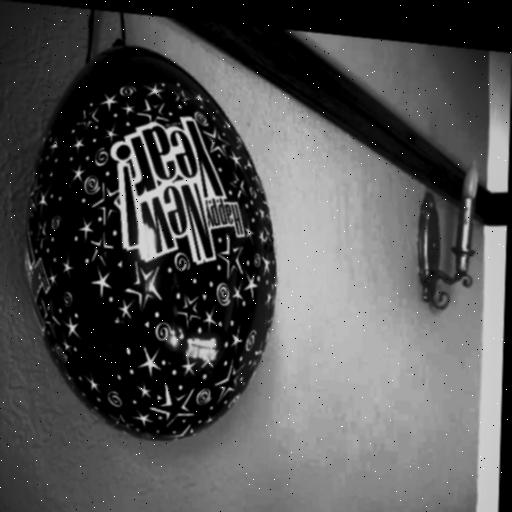balloon: (22, 35, 282, 453)
